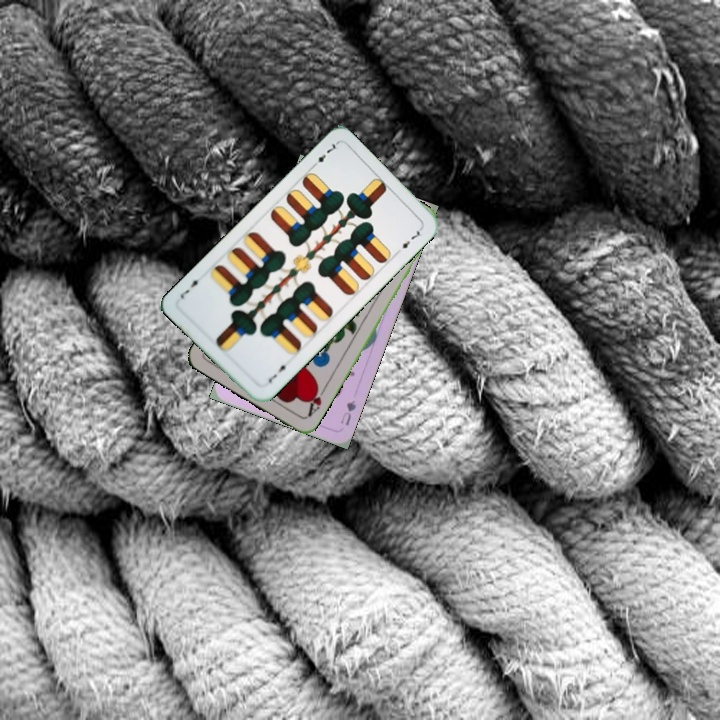E7: (307, 138, 340, 171), (264, 359, 292, 385)
GU: (336, 396, 359, 428)
HA: (304, 382, 329, 419)
